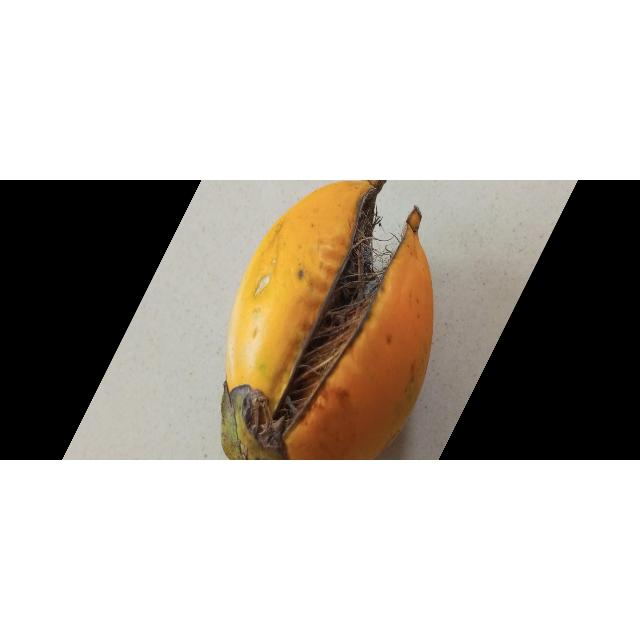damaged: (224, 180, 435, 461)
